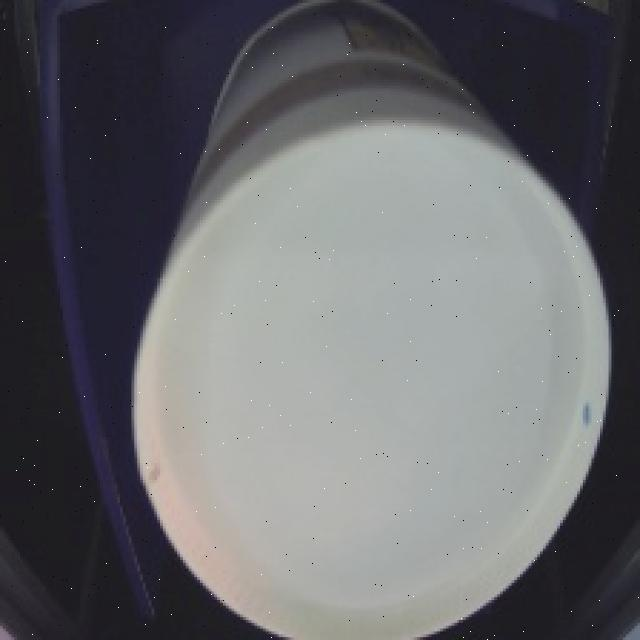cups: (120, 0, 621, 640)
